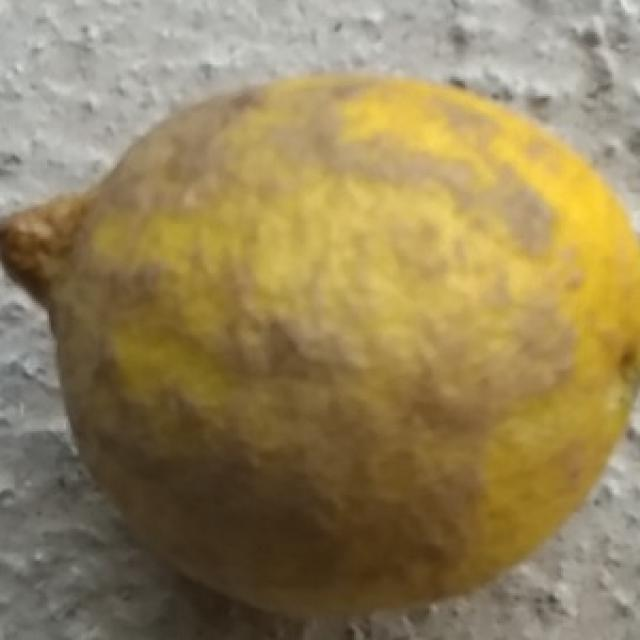overripe: (0, 66, 640, 620)
